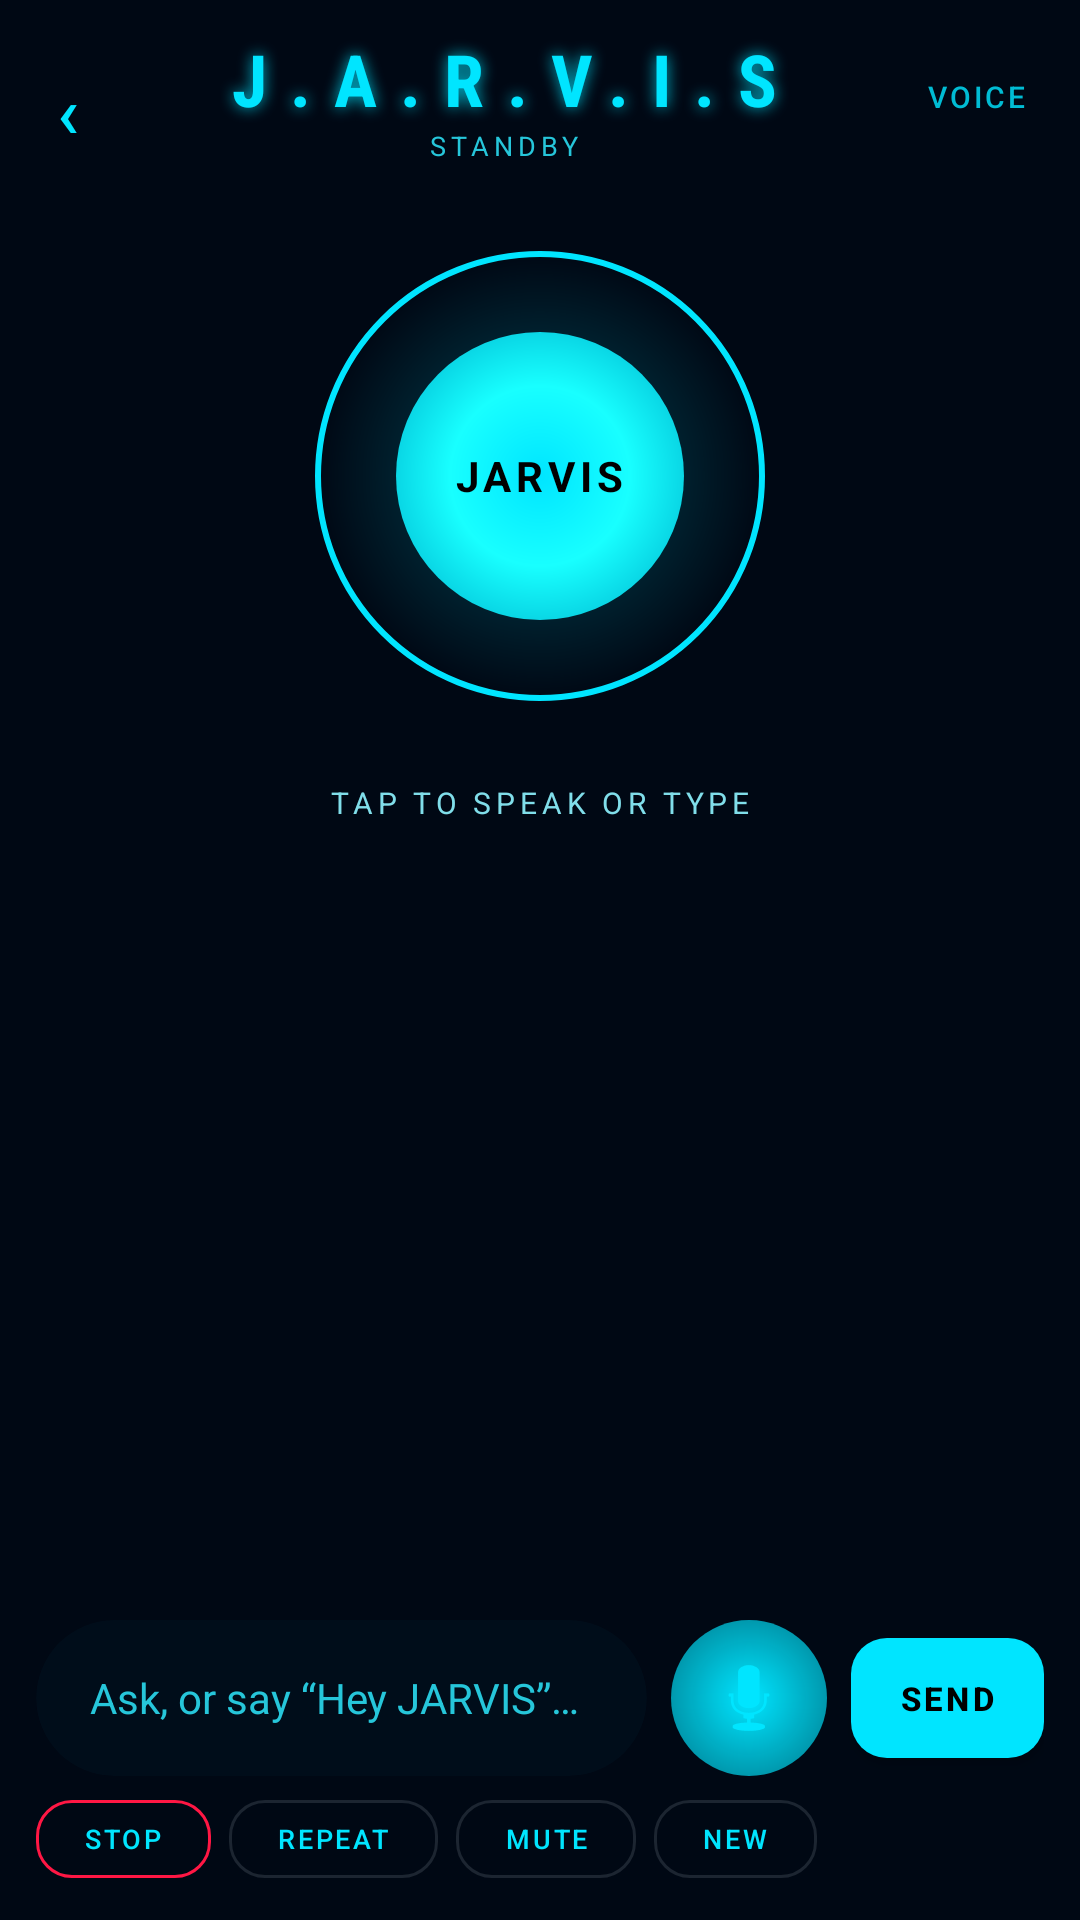

Icons on this 1080px×1920px Android screen, each with the point to tap as point (x, y):
Speak: point (749, 1698)
